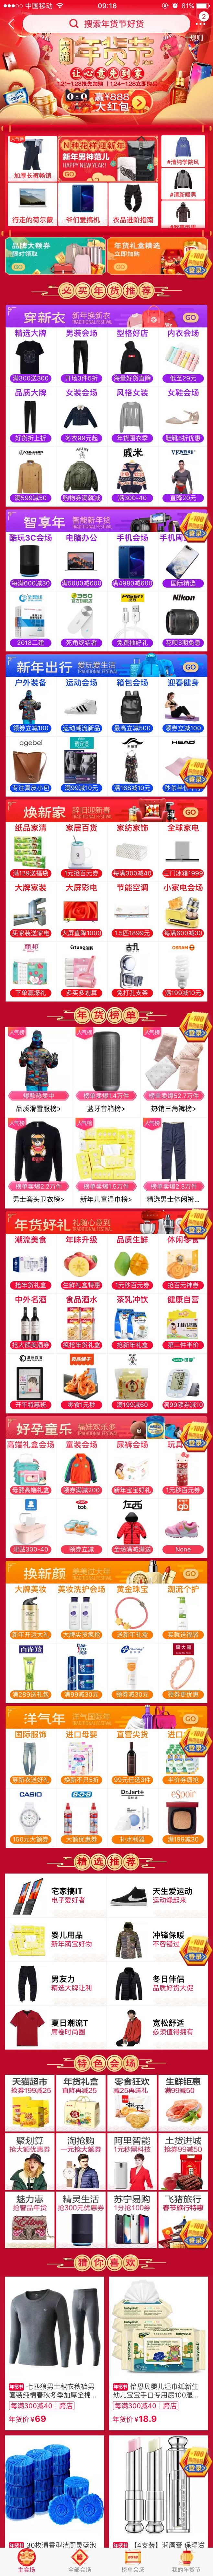floors: (0, 1005, 211, 1848), (0, 281, 213, 1002), (0, 2254, 213, 2548), (0, 1851, 213, 2050), (0, 2054, 213, 2251), (0, 135, 213, 228), (0, 235, 213, 279)
toutu: (0, 33, 213, 125)
